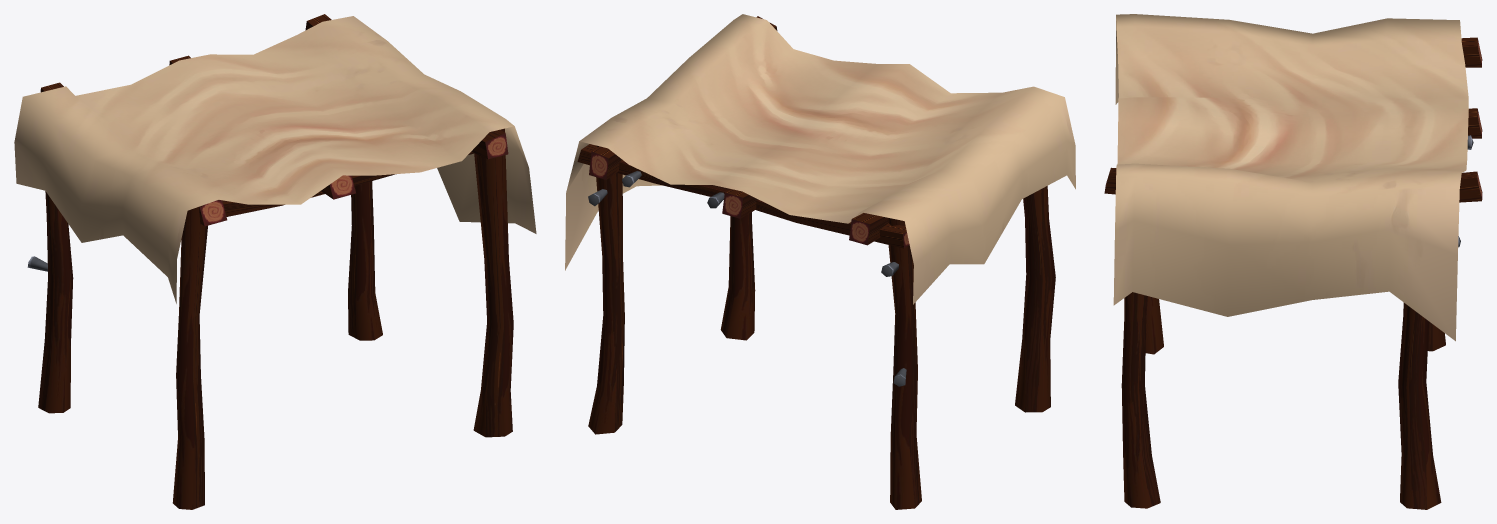
Rendered from SM_PROP_market_v02_01.glb.
3 renders of one model, left to right at view 1: azimuth 30°, elevation 25°; view 2: azimuth 150°, elevation 25°; view 3: azimuth 270°, elevation 25°, orthographic. The views are drawn at different scales.
Visible parts, largest first — view 1: SM_PROP_market_v02_01_EXPORT; view 2: SM_PROP_market_v02_01_EXPORT; view 3: SM_PROP_market_v02_01_EXPORT.
Boxes of the visible parts, <box> form: SM_PROP_market_v02_01_EXPORT: <box>14,14,536,509</box>; SM_PROP_market_v02_01_EXPORT: <box>565,14,1075,509</box>; SM_PROP_market_v02_01_EXPORT: <box>1104,14,1482,509</box>.
Bounding box in the file's own units: 4.21 × 3.48 × 3.62.
4 materials, 4 textured.
